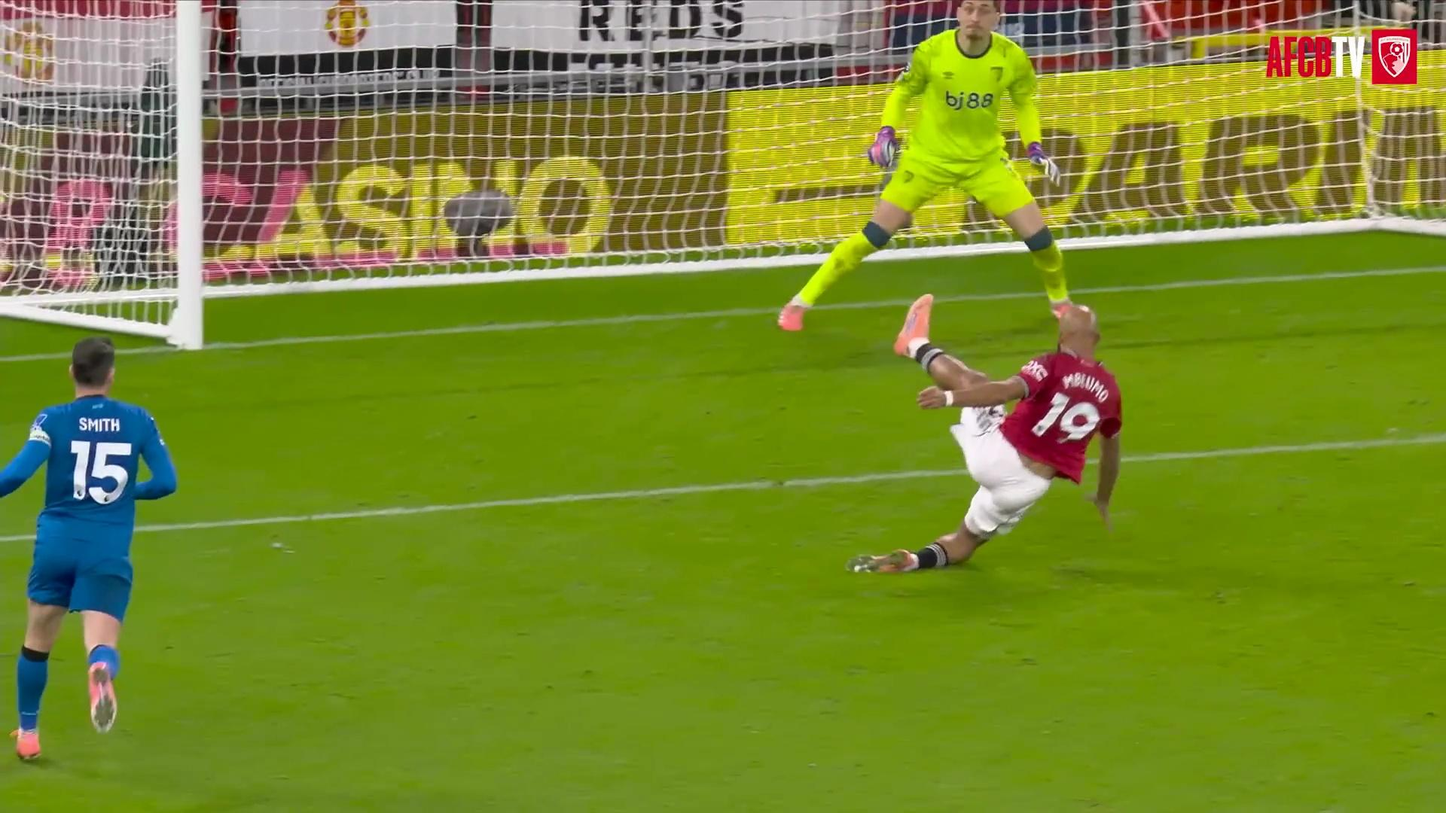player: (778, 0, 1068, 330), (849, 296, 1121, 572), (0, 338, 176, 759)
